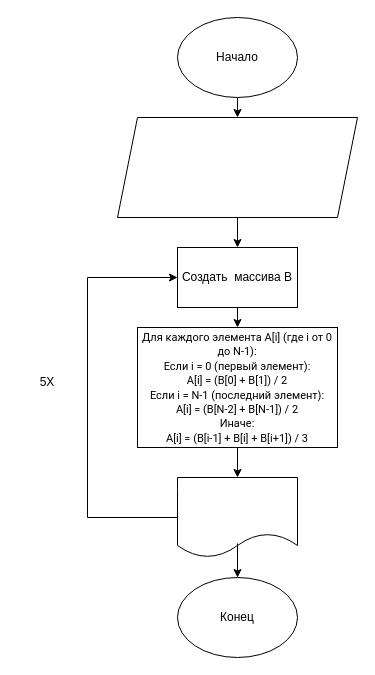
This 375x675 diagram has some shape labels left out. Each missing label, with the centre of its shape:
Массив A вещественных чисел размером N Целое число N: (237,167)
Результат: (237,517)
